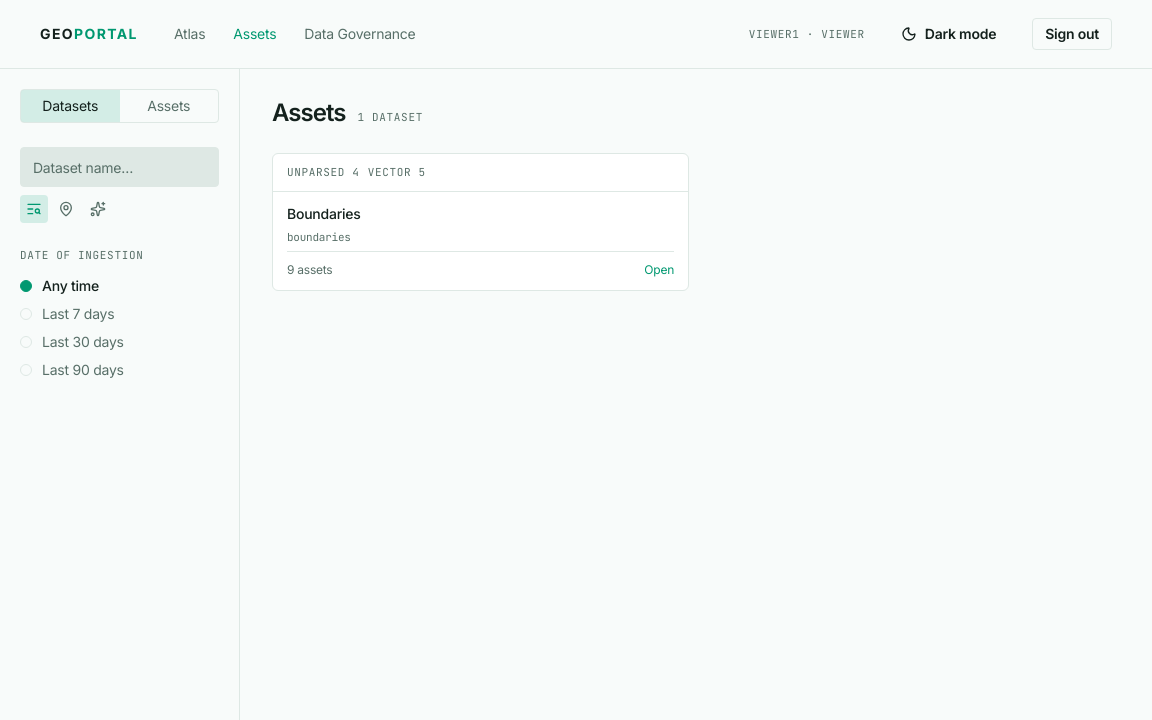
Test: says a filter matched nothing, rather than that there is nothing
Click the radio button labelled "Assets" at [169, 106], box x1=120 y1=90 x2=218 y2=122
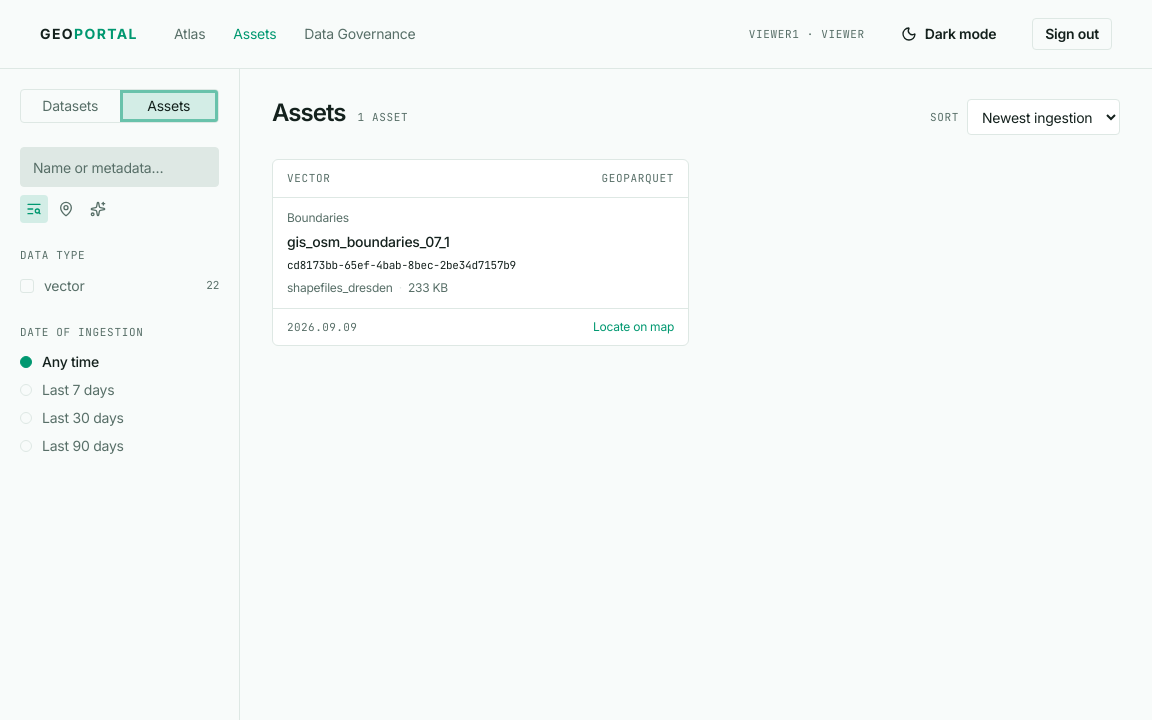
Type "zzz" into the search field named "Search assets" at [120, 167], box x1=20 y1=147 x2=219 y2=187
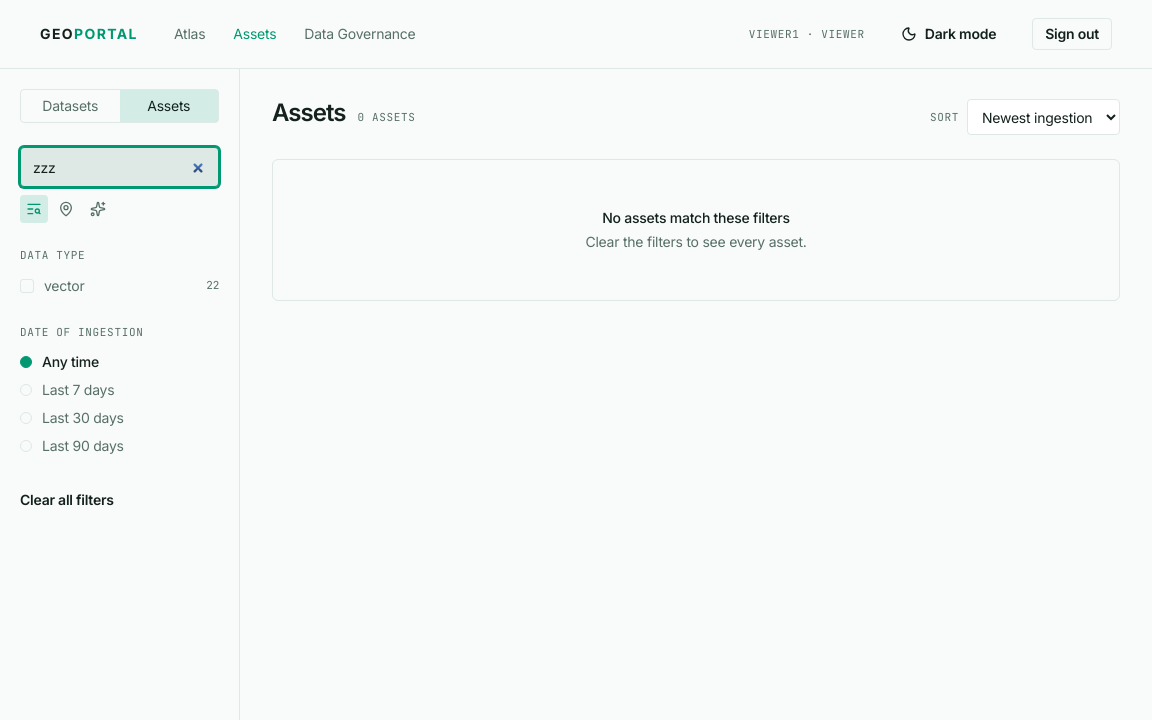
Check: the text "No assets match these filters" is shown, box x1=602 y1=209 x2=790 y2=226
